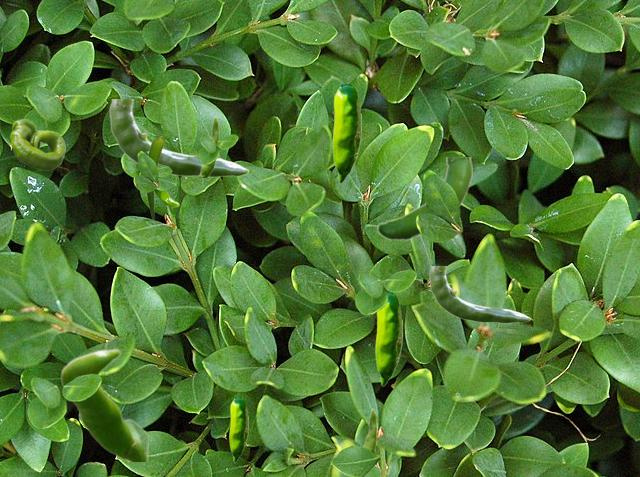green_chili: (109, 99, 247, 176), (60, 348, 147, 460), (376, 157, 471, 240), (429, 266, 529, 322), (332, 84, 360, 182), (10, 119, 64, 169), (375, 293, 401, 385), (145, 151, 178, 206), (146, 136, 163, 219), (229, 397, 247, 461), (199, 116, 218, 176), (363, 408, 376, 451)
